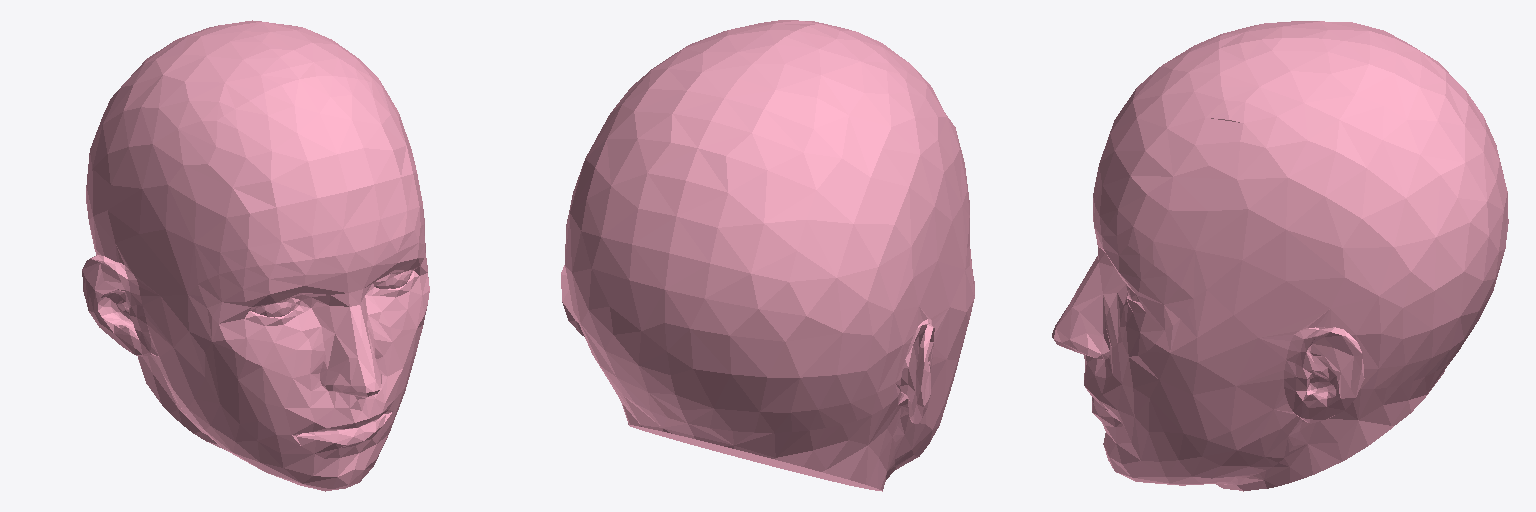
The robot description file, URDF, robot "head":
<?xml version="1.0" ?>
<robot name="head">
  <link name="baseLink">
    <contact>
      <lateral_friction value="0.5"/>
      <rolling_friction value="0.0"/>
      <contact_cfm value="0.0"/>
      <contact_erp value="1.0"/>
    </contact>
    <inertial>
      <origin rpy="0 0 0" xyz="0.07 0.05 0.03"/>
       <mass value=".1"/>
       <inertia ixx="1" ixy="0" ixz="0" iyy="1" iyz="0" izz="1"/>
    </inertial>
    <visual>
      <origin rpy="0 0 0" xyz="0 0 0"/>
      <geometry>
        <mesh filename="head_small.obj" scale=".1 .1 .1"/>
      </geometry>
      <material name="babypink" >
        <color rgba="1.0 0.7176470588235294 0.807843137254902 1.0" />
      </material>
    </visual>
    <collision>
      <origin rpy="0 0 0" xyz="0 0 0"/>
      <geometry>
	 	<mesh filename="head_small.obj" scale=".1 .1 .1"/>
      </geometry>
    </collision>
  </link>
</robot>

--- What the picture shows (computed from the rendered views, not written in the file) ---
The picture shows the robot from 3 angles, left to right: view 1: azimuth 30°, elevation 25°; view 2: azimuth 150°, elevation 25°; view 3: azimuth 270°, elevation 25°; orthographic projection.
Model head with 1 links and 0 joints (none), rooted at baseLink, posed all joints at 0.
Visible links, largest first — view 1: baseLink; view 2: baseLink; view 3: baseLink.
Link boxes in pixels (x1=…): baseLink: x1=82, y1=20, x2=429, y2=491; baseLink: x1=561, y1=20, x2=974, y2=491; baseLink: x1=1052, y1=21, x2=1508, y2=491.
Size in the robot's own frame: 0.0864 by 0.1005 by 0.1064 metres.
Meshes: 1 distinct files referenced, 1 mesh visuals loaded (1 OBJ).